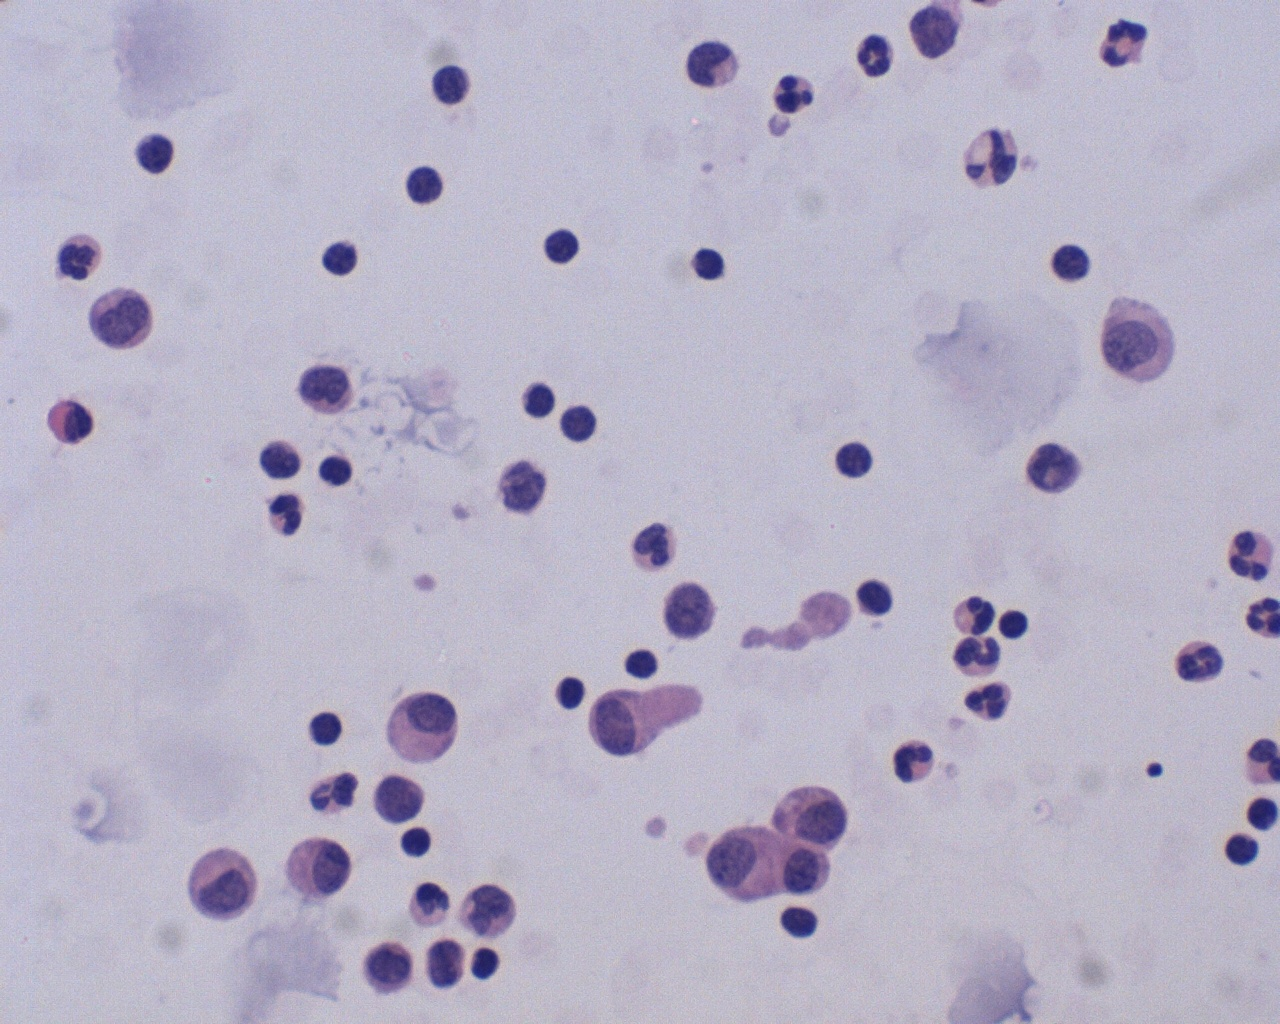ab: (366, 769, 433, 829)
lymph: (506, 375, 564, 422), (535, 225, 589, 273), (402, 163, 452, 211), (827, 437, 881, 481), (318, 231, 365, 280), (1050, 238, 1095, 288), (855, 571, 897, 621), (689, 239, 730, 287), (1223, 827, 1265, 871), (553, 671, 594, 709)
meso: (694, 816, 786, 912), (378, 689, 471, 766), (185, 842, 263, 926), (770, 776, 850, 857), (279, 831, 359, 904)
neutro: (51, 223, 109, 288), (1169, 631, 1230, 688), (885, 728, 942, 786), (1224, 529, 1280, 587), (628, 520, 688, 572), (851, 31, 900, 85), (964, 672, 1015, 722), (258, 489, 308, 539), (773, 69, 818, 119), (954, 588, 998, 637)
